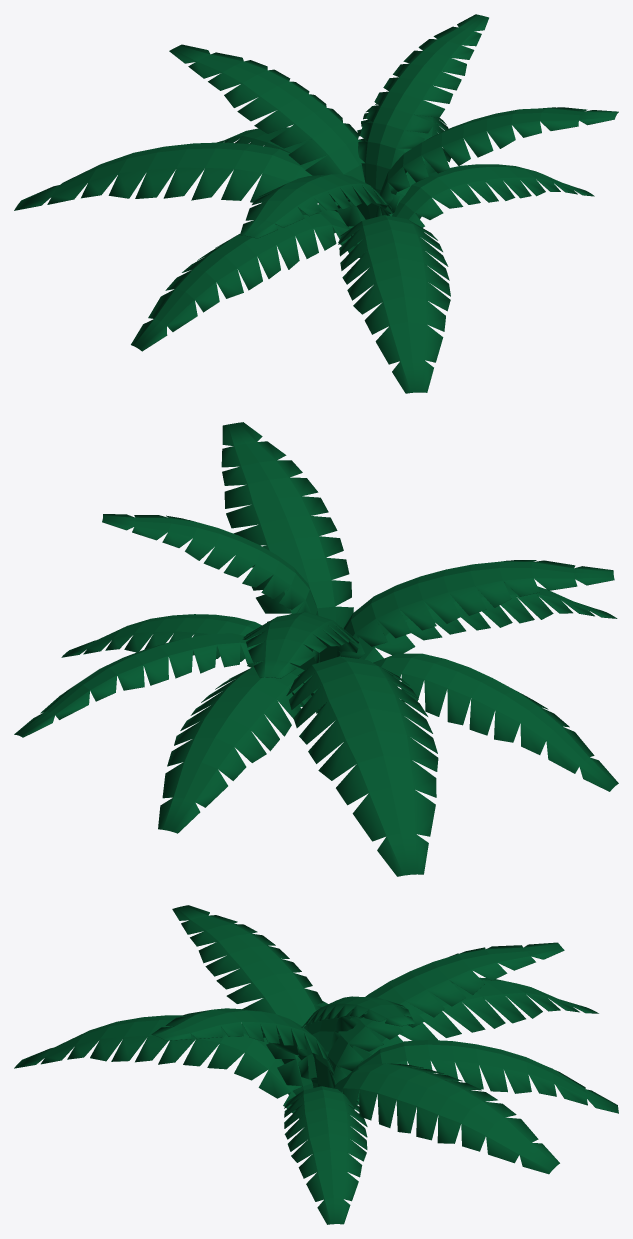
The model's file is Bush1.fbx.
The picture shows the model from 3 angles, top to bottom: view 1: azimuth 30°, elevation 25°; view 2: azimuth 150°, elevation 25°; view 3: azimuth 270°, elevation 25°; orthographic projection. The views are drawn at different scales.
Parts seen in each view (by area): view 1: grass3; view 2: grass3; view 3: grass3.
Part boxes in pixels (x1,y1,x2,y2): grass3: (14, 14, 618, 393); grass3: (14, 422, 618, 876); grass3: (14, 905, 618, 1224).
Size of the model in its own units: 168 by 64.02 by 187.
